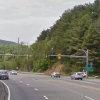Car: (67, 66, 88, 82)
